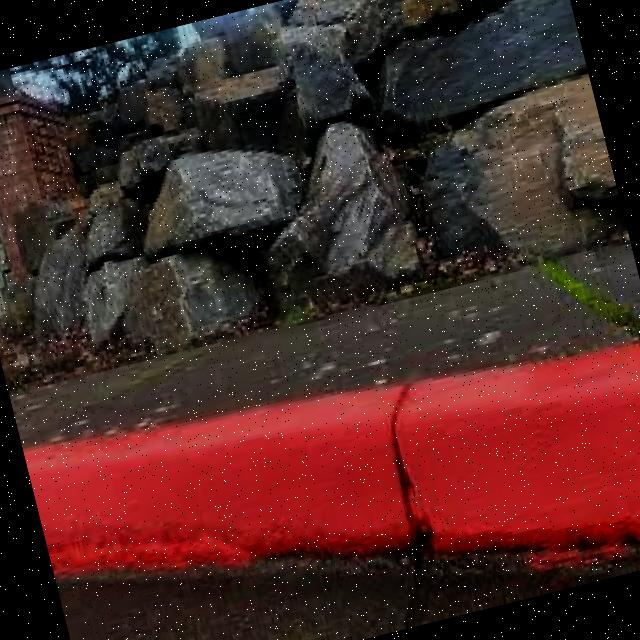curb: (21, 350, 438, 640), (385, 327, 640, 613)
